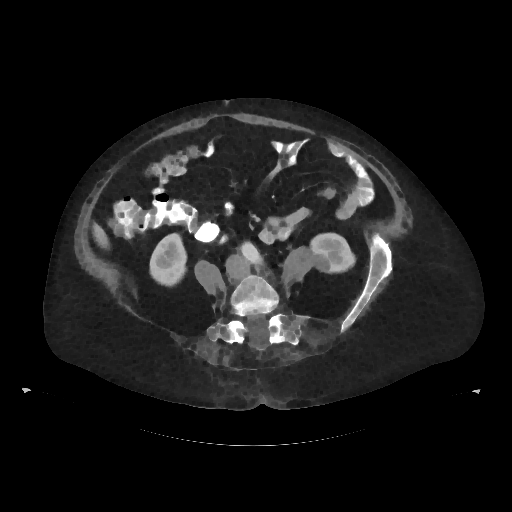Lesion: (309, 250, 334, 273)
